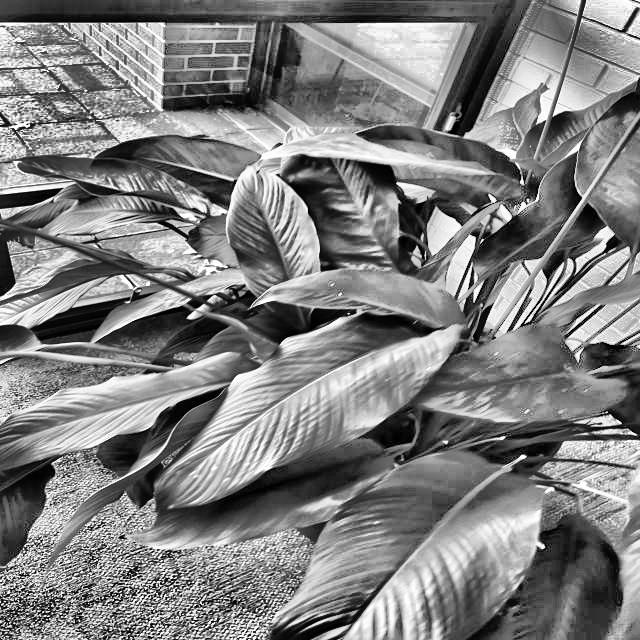plants: (135, 187, 640, 640)
